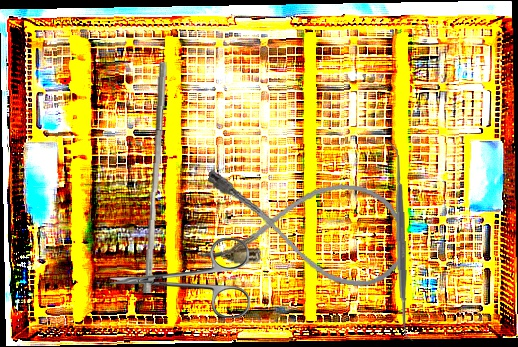Cannula: (195, 162, 412, 293)
Iris Scissors: (109, 238, 250, 318)
Pusher: (141, 61, 168, 294)
Spatula Surgical: (385, 140, 416, 342)
